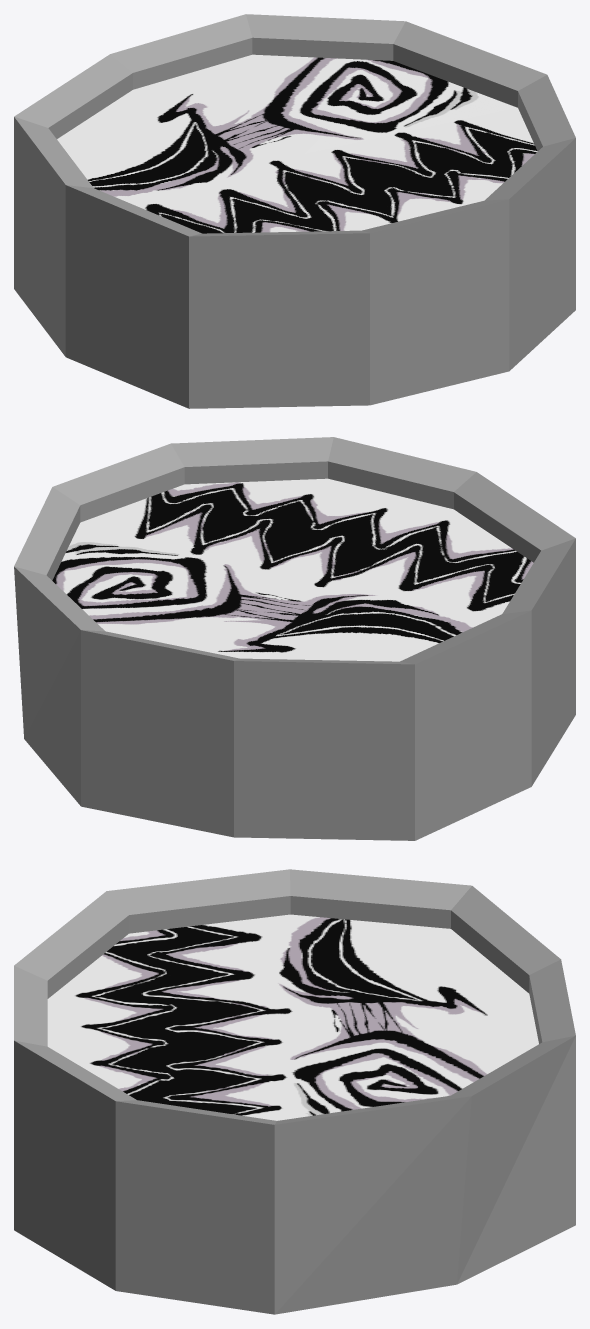
Rendered from new drum plat.fbx.
3 views of the same model, one above another, from view 1: azimuth 30°, elevation 25°; view 2: azimuth 150°, elevation 25°; view 3: azimuth 270°, elevation 25° (orthographic). The views are drawn at different scales.
Parts seen in each view (by area): view 1: drum_plat; view 2: drum_plat; view 3: drum_plat.
Part boxes in pixels (<box>): drum_plat: <box>14,14,575,408</box>; drum_plat: <box>14,437,575,840</box>; drum_plat: <box>14,869,575,1314</box>.
Size of the model in its own units: 3.7 by 1.29 by 3.45.
Materials: 2 (1 with a texture image).
